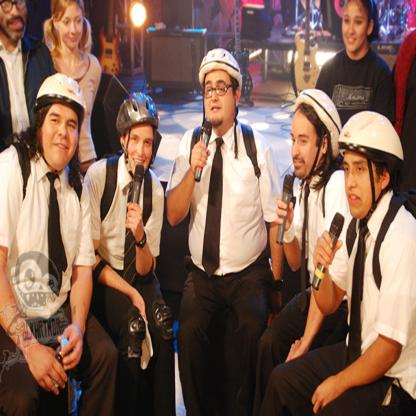Helmet: (338, 106, 404, 224), (289, 82, 348, 190), (31, 72, 87, 155), (108, 87, 163, 159), (198, 42, 241, 114)
